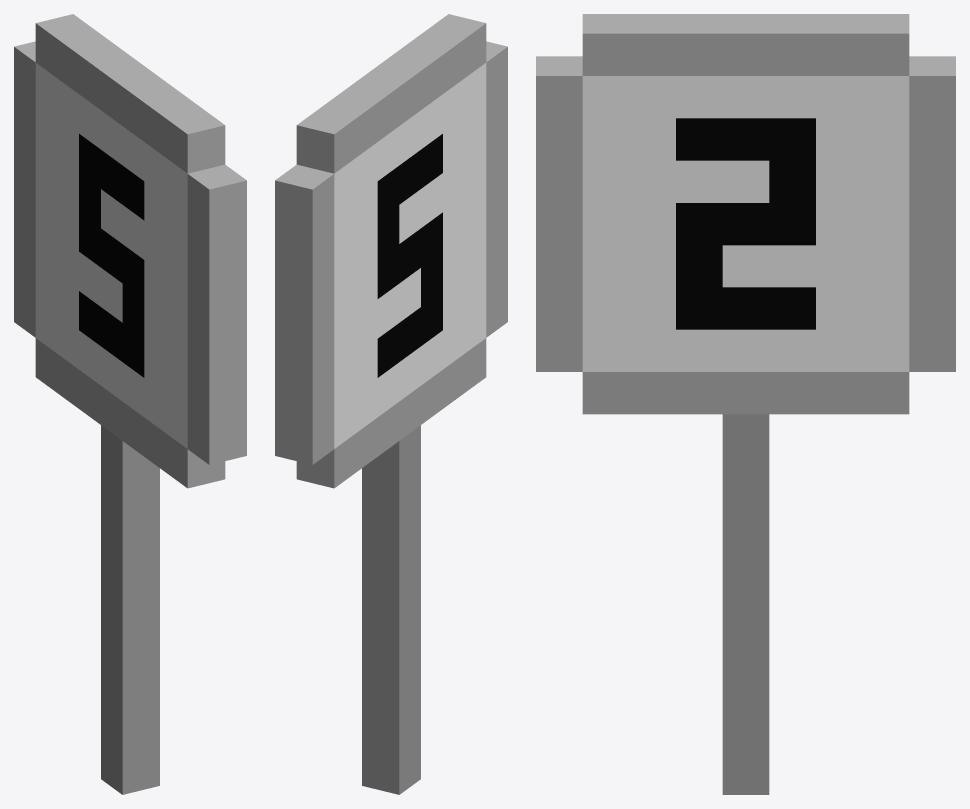
The model's file is Two.obj.
The picture shows the model from 3 angles, left to right: view 1: azimuth 30°, elevation 25°; view 2: azimuth 150°, elevation 25°; view 3: azimuth 270°, elevation 25°; orthographic projection. The views are drawn at different scales.
Bounding box in the file's own units: 1 × 18 × 9.
1 material, 1 textured.
